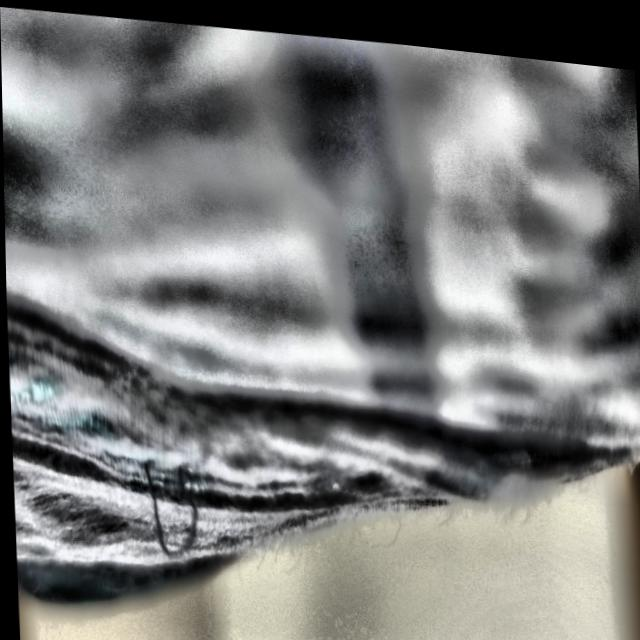Stitch: (101, 417, 235, 640)
